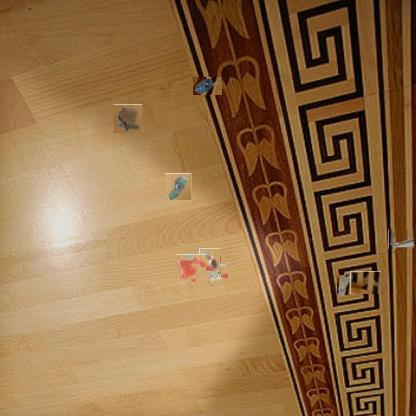dirty: (114, 105, 143, 133), (165, 174, 192, 200), (388, 229, 415, 249), (194, 77, 224, 95), (205, 263, 228, 286), (198, 248, 221, 271), (338, 275, 354, 297)
liquid: (178, 253, 205, 281), (350, 271, 381, 294)
